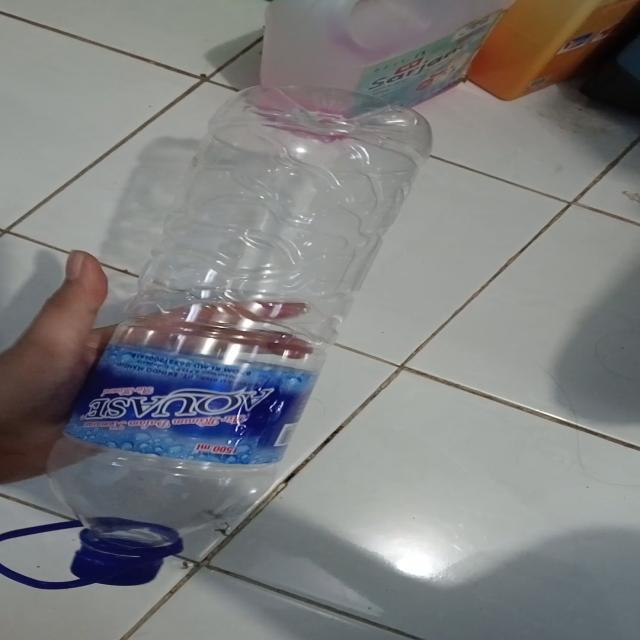Botol bekas: (39, 83, 430, 561)
